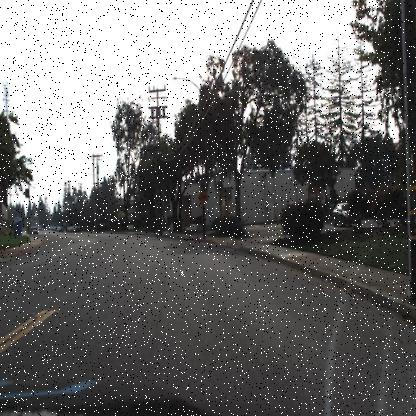car: (332, 200, 363, 229)
